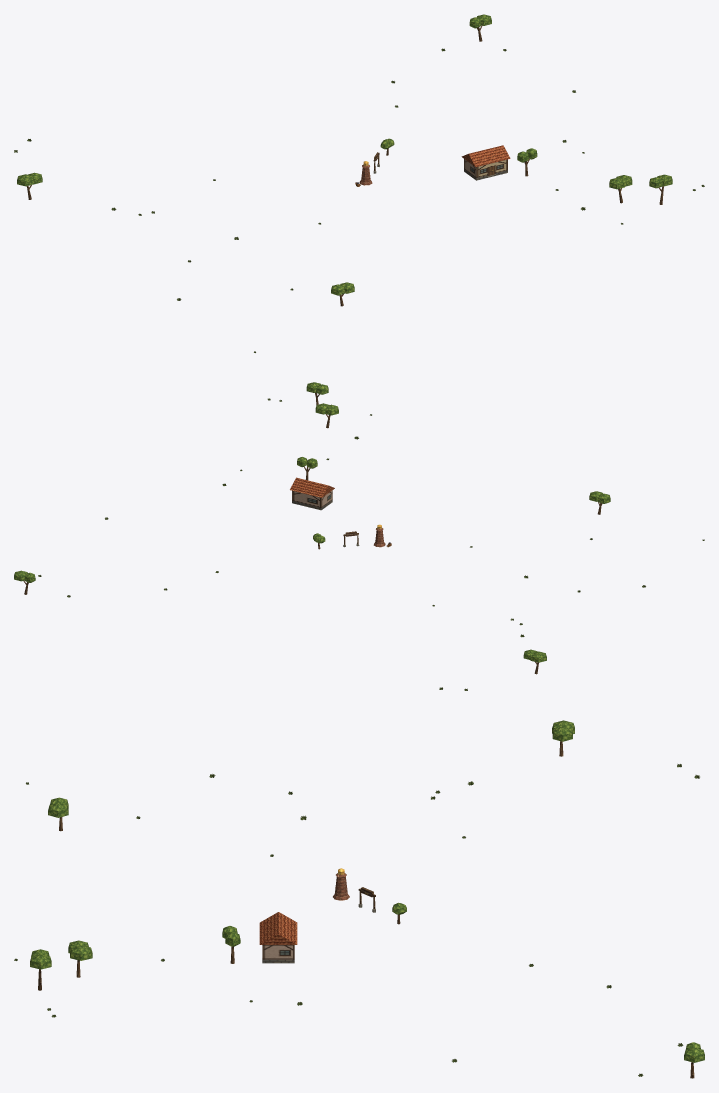
The model's file is FieldCell_0_6.fbx.
3 renders of one model, top to bottom at view 1: azimuth 30°, elevation 25°; view 2: azimuth 150°, elevation 25°; view 3: azimuth 270°, elevation 25°, orthographic. The views are drawn at different scales.
Visible parts, largest first — view 1: FieldCell_0_6; view 2: FieldCell_0_6; view 3: FieldCell_0_6.
Part boxes in pixels (x1,y1,x2,y2): FieldCell_0_6: (17,14,672,306); FieldCell_0_6: (14,382,610,674); FieldCell_0_6: (30,720,704,1078).
Bounding box in the file's own units: 15272 × 2021 × 13227.
